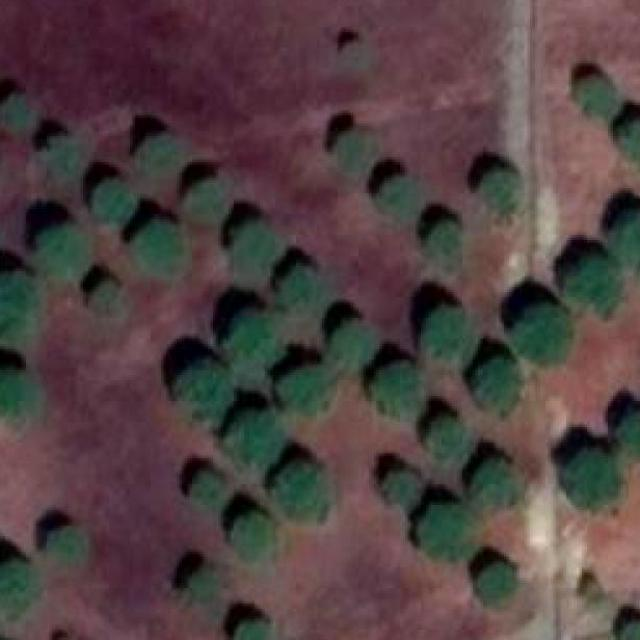Tree: (561, 446, 621, 513), (228, 305, 284, 373), (173, 359, 234, 420), (267, 460, 327, 521), (511, 302, 572, 360), (419, 302, 476, 363), (419, 505, 476, 565), (130, 220, 190, 276), (566, 259, 624, 316), (222, 414, 278, 470), (472, 460, 522, 521), (228, 222, 280, 280), (472, 358, 524, 414), (274, 364, 330, 414), (372, 362, 427, 412), (36, 224, 88, 274), (0, 266, 36, 336), (278, 266, 326, 318), (330, 321, 378, 373), (135, 131, 182, 181), (226, 513, 274, 560), (185, 178, 232, 225), (0, 558, 36, 619), (40, 134, 86, 181), (424, 414, 468, 462), (572, 74, 616, 120), (45, 526, 89, 572), (91, 180, 133, 228), (483, 170, 525, 215), (476, 562, 520, 604), (0, 364, 34, 416), (608, 209, 640, 264), (185, 567, 226, 609), (372, 176, 413, 217), (332, 131, 372, 172), (426, 225, 462, 269), (187, 469, 227, 508), (91, 280, 128, 321), (388, 472, 418, 506), (618, 412, 640, 458), (3, 94, 34, 126), (618, 121, 640, 160), (237, 619, 273, 640), (615, 619, 640, 640), (340, 40, 364, 61)
